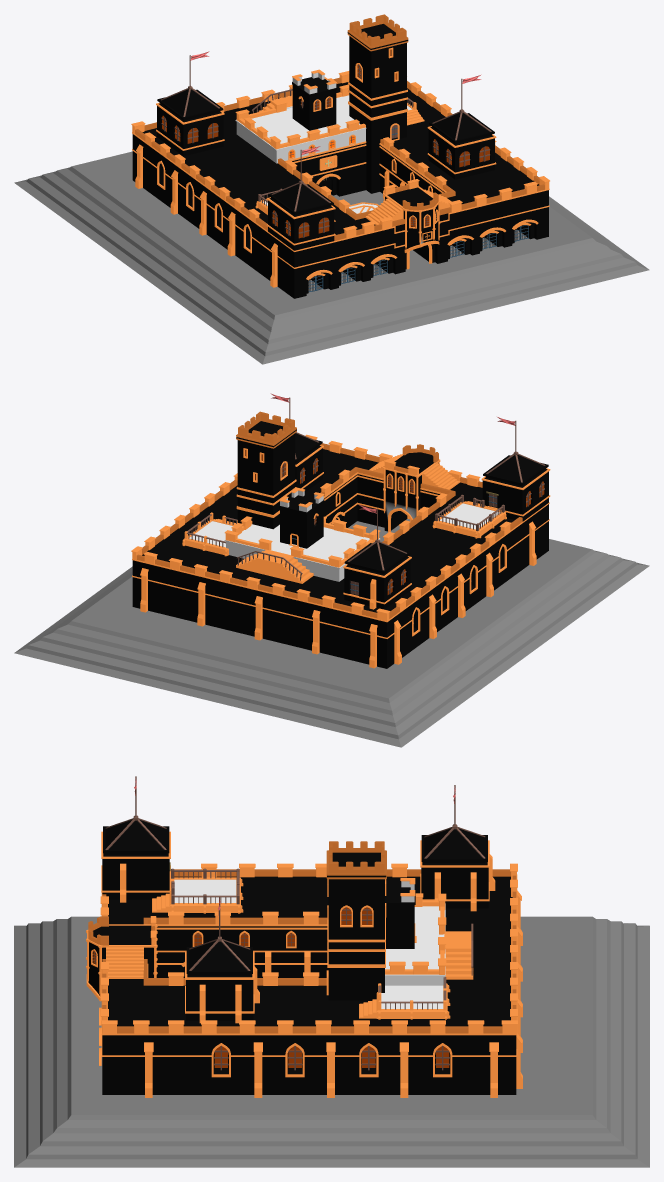
Rendered from crusader_headquarter.FBX.
3 renders of one model, top to bottom at view 1: azimuth 30°, elevation 25°; view 2: azimuth 150°, elevation 25°; view 3: azimuth 270°, elevation 25°, orthographic. The views are drawn at different scales.
Parts seen in each view (by area): view 1: crusader_headquarter, Cube; view 2: crusader_headquarter, Cube; view 3: crusader_headquarter, Cube.
Boxes of the visible parts, x1,y1,x2,y2 form: crusader_headquarter: (131,14,549,298); Cube: (14,151,649,364); crusader_headquarter: (131,393,550,668); Cube: (14,519,649,747); crusader_headquarter: (86,776,522,1097); Cube: (14,916,649,1167).
Size of the model in its own units: 7605 by 3365 by 8447.
